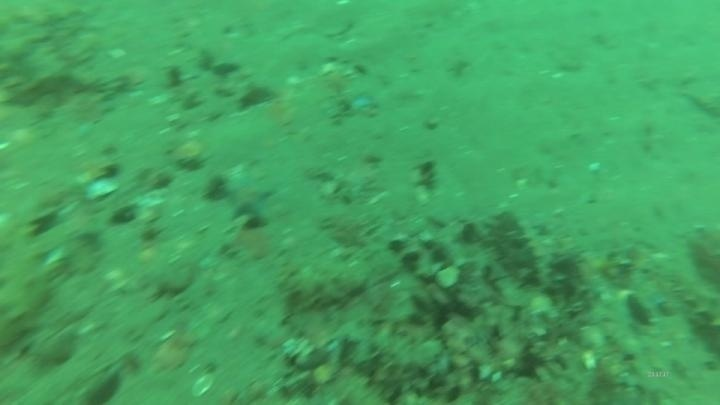holothurian: (0, 206, 60, 356), (273, 257, 369, 314), (666, 237, 720, 331)
starfish: (217, 166, 279, 230)
